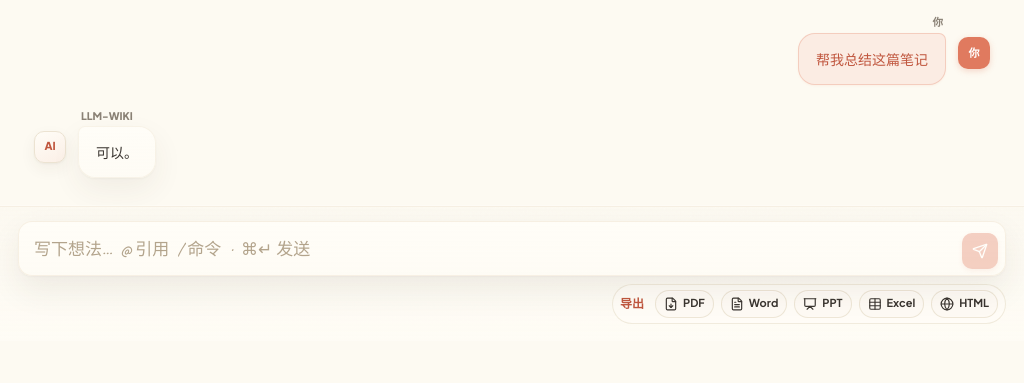
Test: ChatPanel Paper composer › keeps material ingest chips available above the composer card
In the text box with placeholder "写下想法… @ 引用 / 命令 · ⌘↵ 发送": [494, 248] box [34, 228, 954, 269], type "https://example.com/paper"
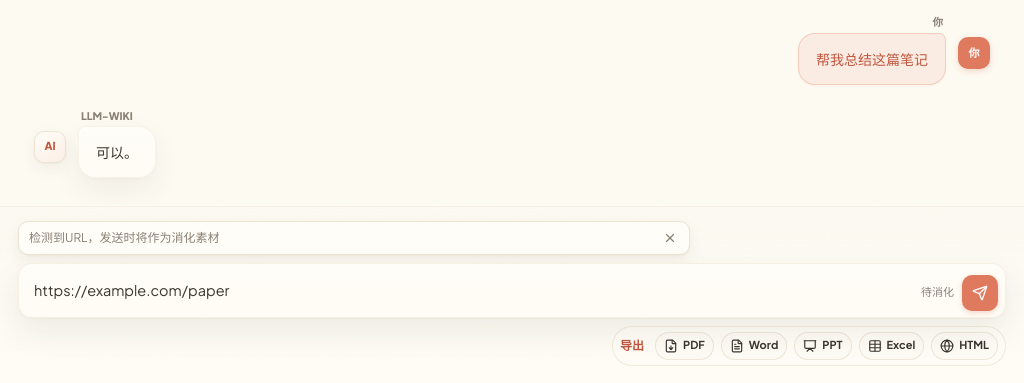
Now the text "检测到URL，发送时将作为消化素材" is shown, box [18, 221, 690, 255]
